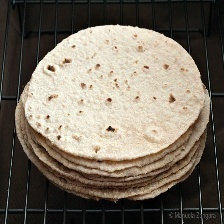roti: (9, 13, 215, 209)
